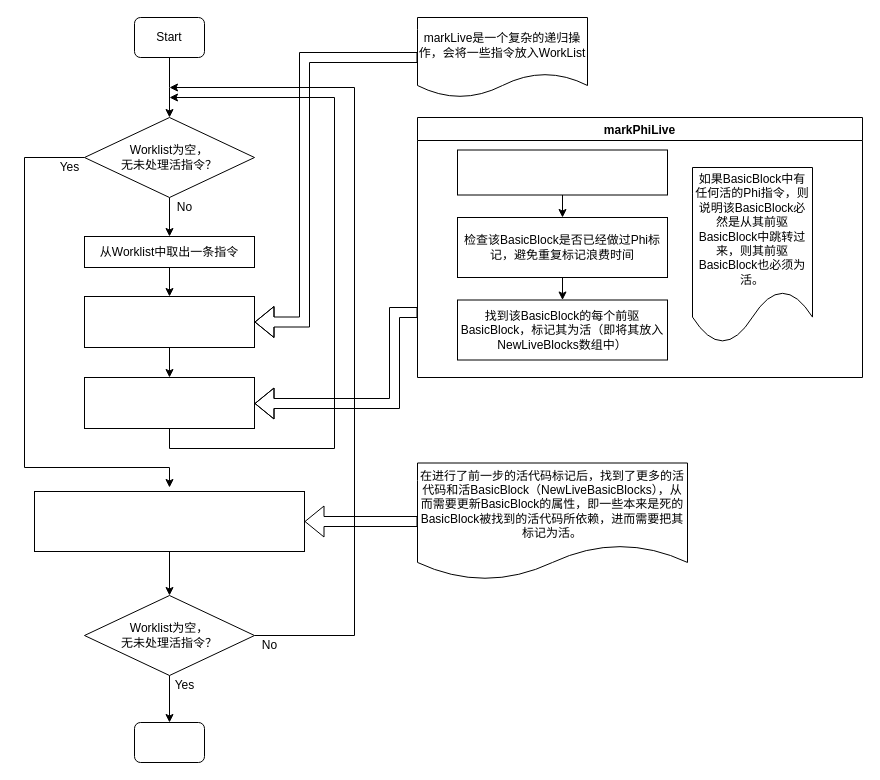
Image size: 880x780. Some labels were removed from this diagram. Each missing label, with the centre of its shape:
"End" goes at pixel 169 742.
"使用markLiveBranchesFromControlDependences" goes at pixel 169 521.
"如果这条指令是Phi指令，则使用特殊的markPhiLive将其标记为活" goes at pixel 169 402.
"对需要被标记为活的Phi指令，找到其所属的BasicBlock" goes at pixel 562 172.
"把这条指令的所有操作数用markLive标记为活" goes at pixel 169 322.
